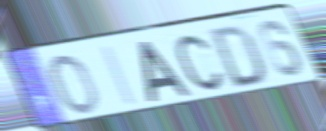6: (258, 18, 305, 78)
A: (138, 38, 194, 104)
C: (175, 33, 226, 93)
D: (208, 23, 268, 91)
I: (101, 44, 140, 109)
O: (48, 52, 103, 117)
